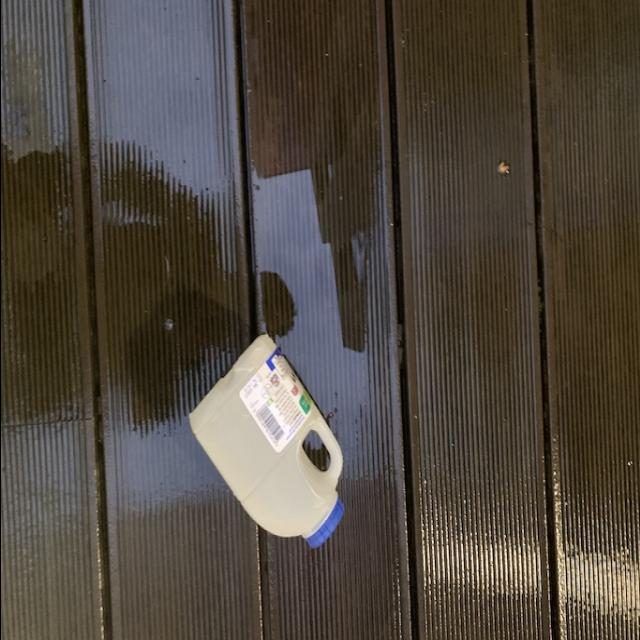HDPEM: (181, 328, 343, 550)
